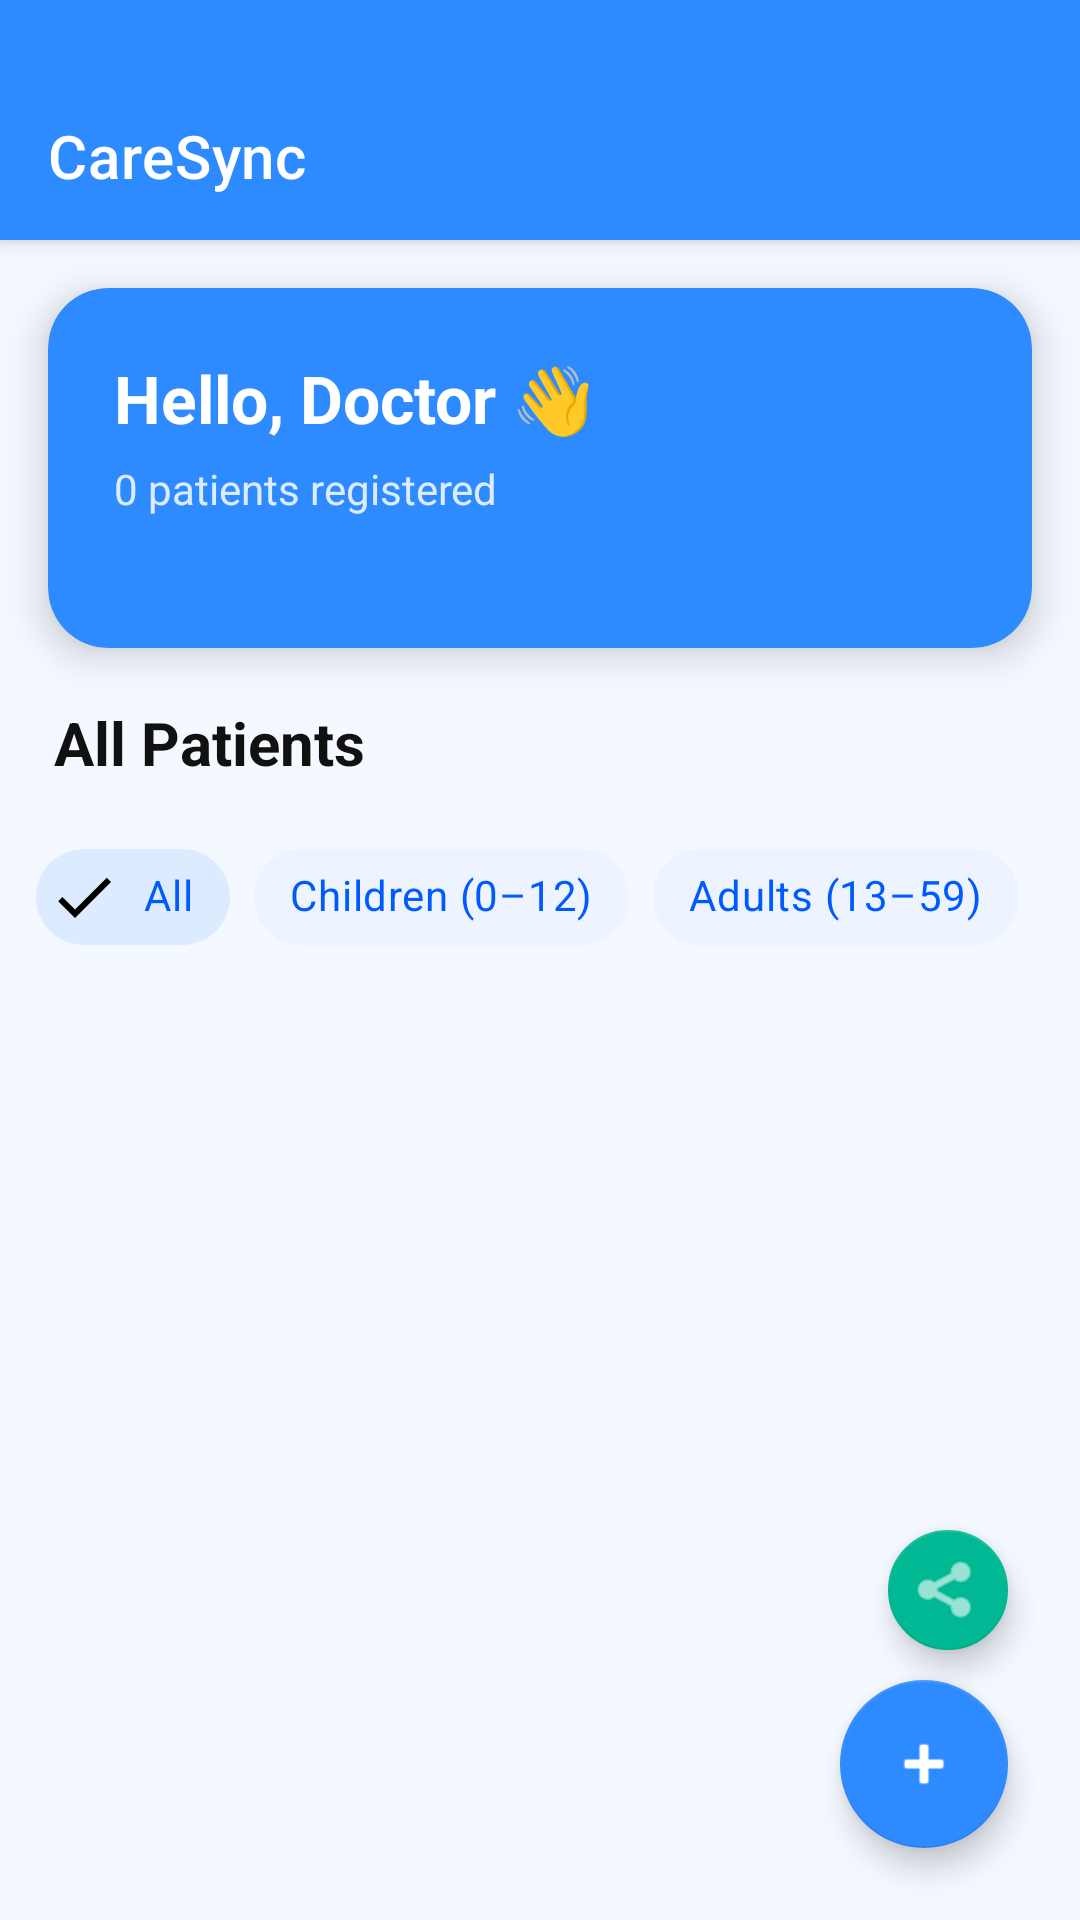

Icons on this 1080 x 1920 Android screen, each with the point to tap as point (x, y):
Add patient: point (924, 1764)
Share patient list: point (949, 1596)
